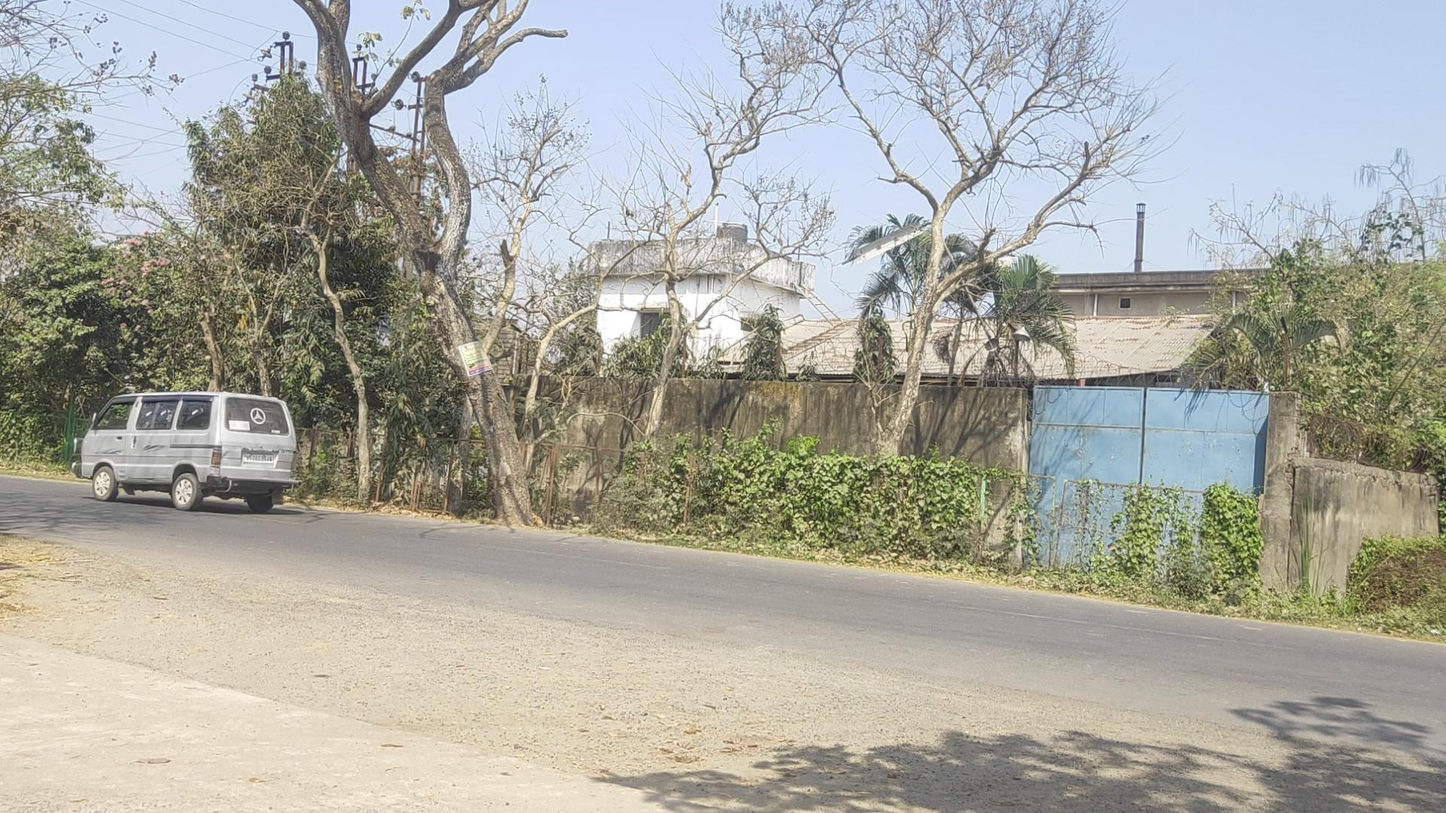van: (71, 391, 302, 512)
